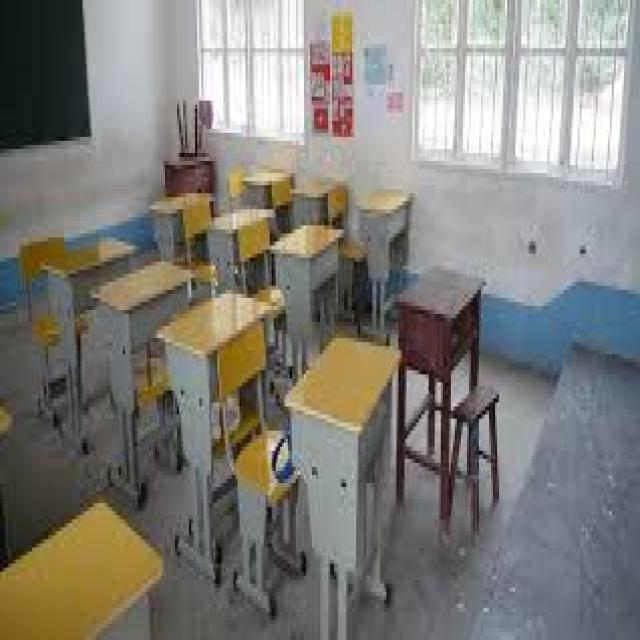Table ahead at: (284, 332, 402, 636), (153, 288, 276, 442), (391, 258, 487, 394), (90, 257, 195, 359), (270, 218, 344, 304), (357, 185, 411, 273), (208, 200, 280, 264)
